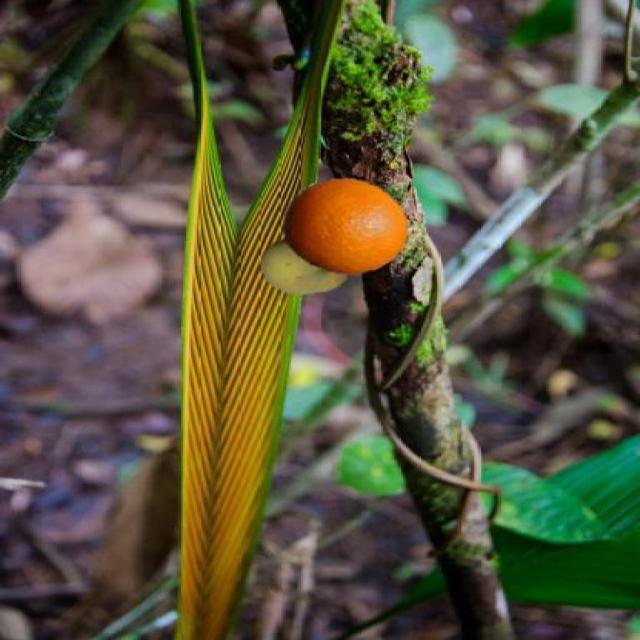Orange: (280, 178, 409, 276)
